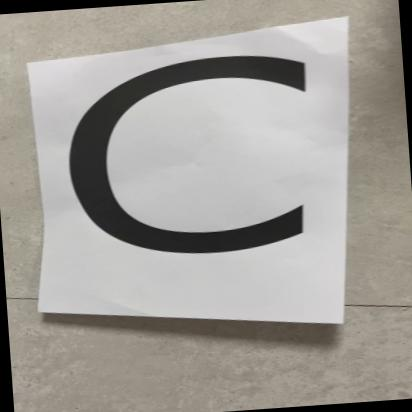seat: (40, 44, 316, 306)
